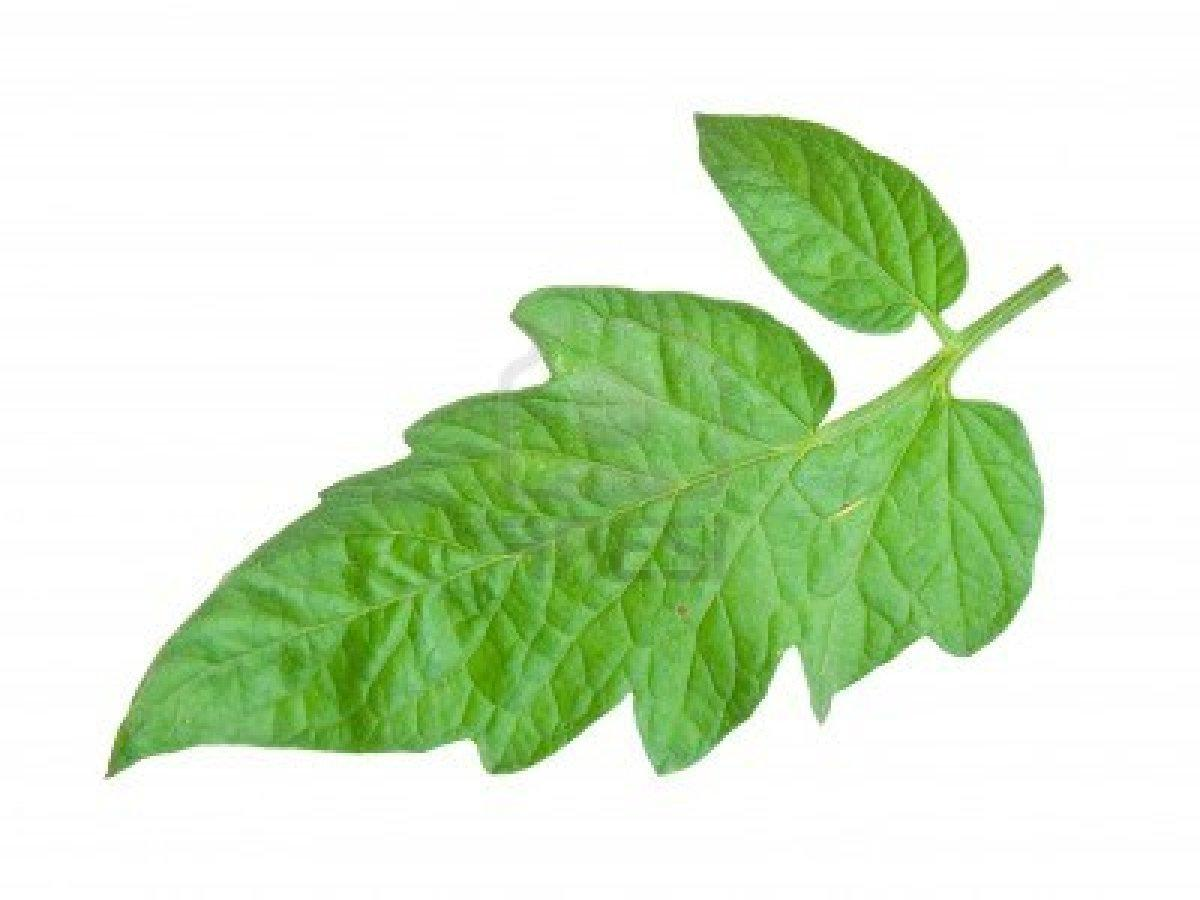Tomato leaf: (58, 281, 1098, 818), (652, 78, 971, 335)
